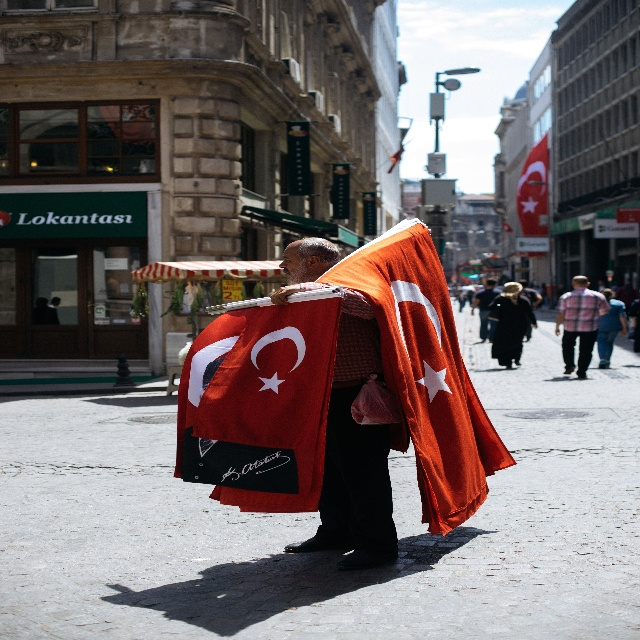Sin_guantes: (270, 283, 301, 306)
